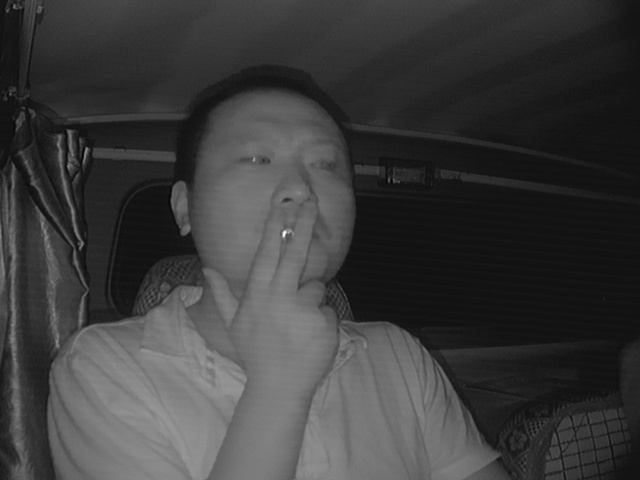hand: (246, 209, 342, 343)
